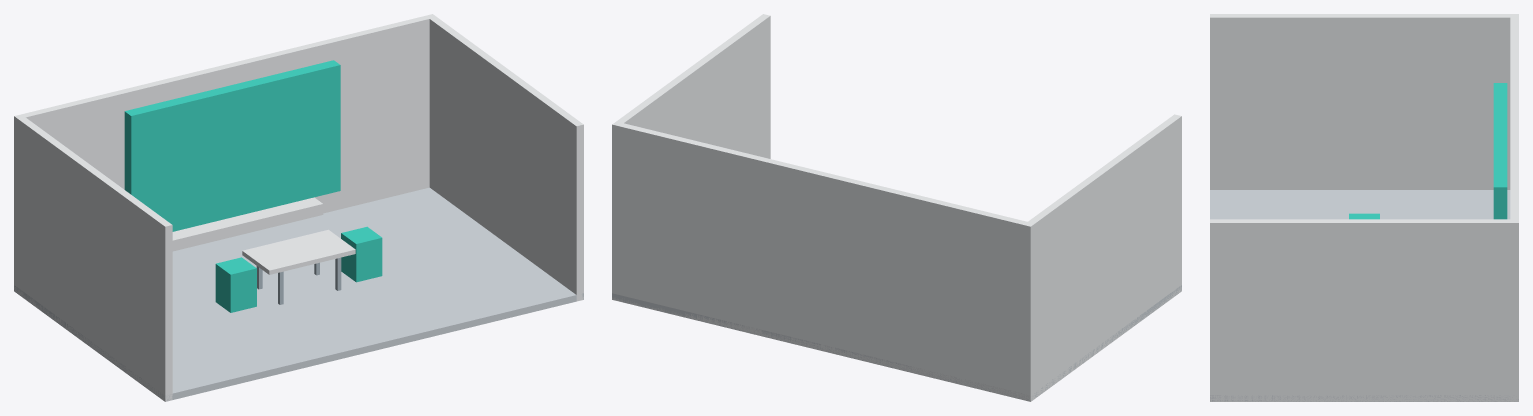
3 views of the same model, side by side, from view 1: azimuth 30°, elevation 25°; view 2: azimuth 150°, elevation 25°; view 3: azimuth 270°, elevation 25° (orthographic). The views are drawn at different scales.
Parts seen in each view (by area): view 1: Exhibition Booth Concept; view 2: Exhibition Booth Concept; view 3: Exhibition Booth Concept.
Boxes of the visible parts, x1,y1,x2,y2 form: Exhibition Booth Concept: [14, 14, 583, 401]; Exhibition Booth Concept: [612, 14, 1181, 401]; Exhibition Booth Concept: [1210, 14, 1518, 401].
Bounding box in the file's own units: 8 × 3.2 × 5.
